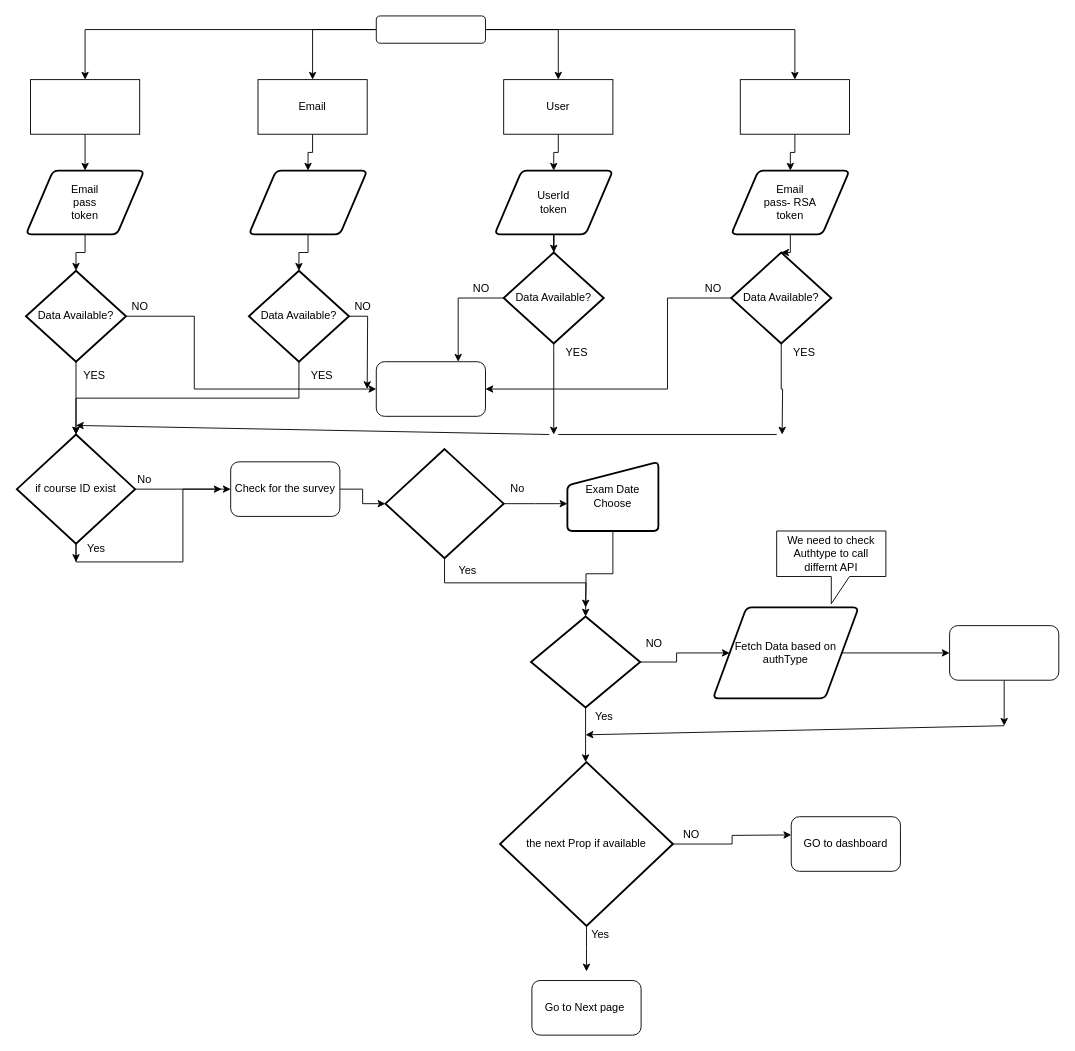
Some shapes in this 1075 by 1051 pixel diagram are drawn without their labels. Here are the shapes that lost their labels. From the top down, the centre of each, then its label:
At point (430, 29): "Auth Type".
At point (85, 106): "Creds".
At point (794, 106): "RSA".
At point (308, 202): "Email token".
At point (430, 388): "URL Invalid".
At point (444, 503): "if survey data exist".
At point (585, 661): "Check for Cookie exist ?".
At point (1004, 652): "Set Cookie TOken".
